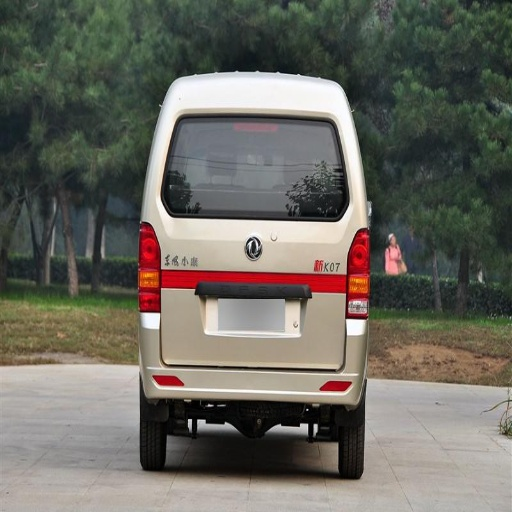back_bumper: (136, 313, 363, 405)
back_glass: (163, 115, 341, 218)
back_left_door: (301, 116, 345, 187)
back_left_light: (137, 224, 159, 311)
trunk: (140, 211, 353, 370)
